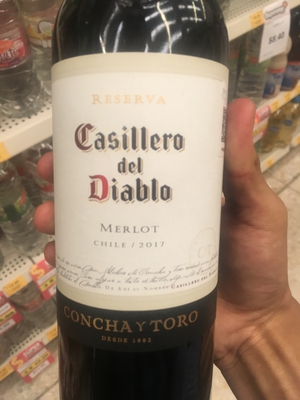casillero del diablo merlot: (41, 13, 244, 398)
